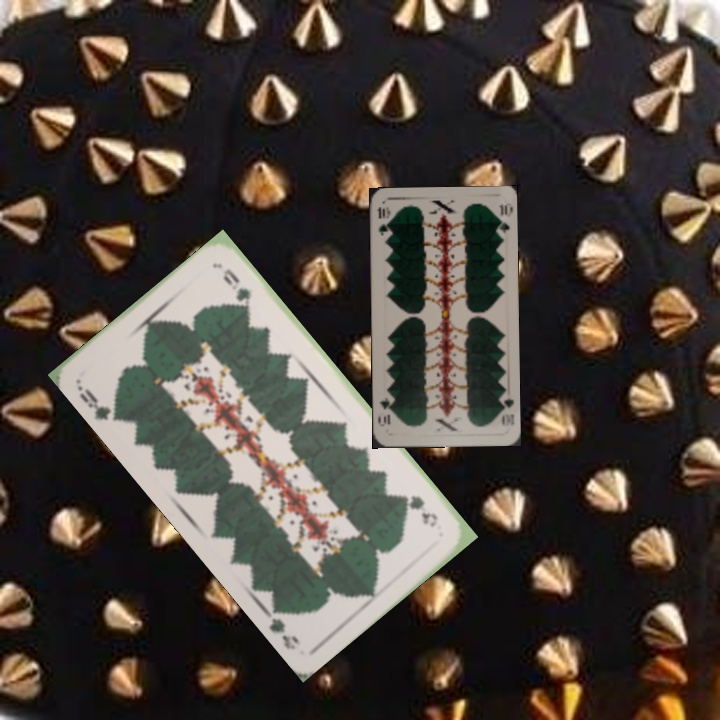G10: (496, 393, 516, 429), (373, 202, 392, 238)
G9: (73, 381, 124, 424), (399, 491, 441, 530)
